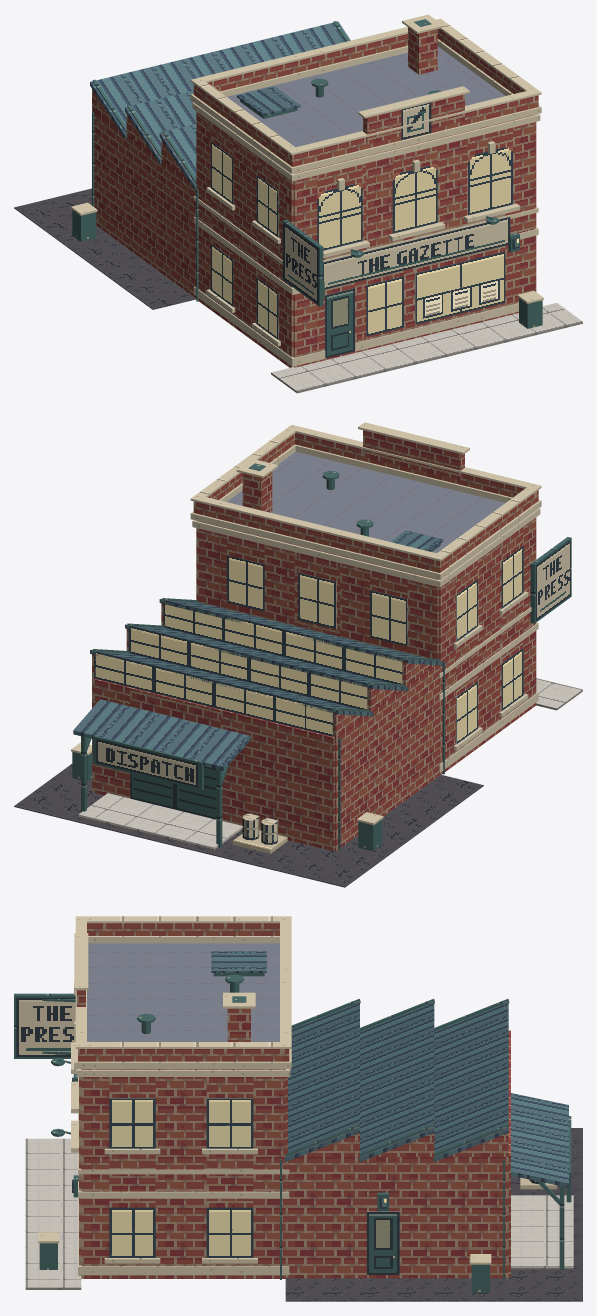
The model's file is gazette-office.glb.
3 views of the same model, one above another, from view 1: azimuth 30°, elevation 25°; view 2: azimuth 150°, elevation 25°; view 3: azimuth 270°, elevation 25° (orthographic). The views are drawn at different scales.
Visible parts, largest first — view 1: structure__wall_brick, structure__detail_stone, structure__glass_gazette, structure__roof_metal, structure__roof_membrane, lot__ground_paving, lot__ground_asphalt, sign_name, structure__detail_steel, projecting_sign__sign_name, panel_door_main__detail_panels, structure__sign_name (+3 smaller); view 2: structure__wall_brick, structure__glass_gazette, structure__detail_stone, structure__roof_metal, structure__roof_membrane, lot__ground_asphalt, structure__ground_paving, structure__detail_steel, panel_door_back__detail_panels, structure__sign_name, projecting_sign__sign_name, lot__ground_paving (+3 smaller); view 3: structure__wall_brick, structure__roof_metal, structure__detail_stone, structure__roof_membrane, structure__glass_gazette, lot__ground_asphalt, lot__ground_paving, structure__detail_steel, structure__ground_paving, projecting_sign__sign_name, panel_door_side__detail_panels, projecting_sign__detail_steel (+2 smaller).
Part boxes in pixels (left/top/right/bottom): structure__wall_brick: left=92, top=24, right=538, bottom=367; structure__detail_stone: left=190, top=14, right=541, bottom=366; structure__glass_gazette: left=211, top=141, right=512, bottom=339; structure__roof_metal: left=90, top=21, right=350, bottom=189; structure__roof_membrane: left=227, top=46, right=504, bottom=147; lot__ground_paving: left=271, top=302, right=582, bottom=393; lot__ground_asphalt: left=14, top=188, right=195, bottom=309; sign_name: left=323, top=217, right=510, bottom=289; structure__detail_steel: left=92, top=19, right=519, bottom=301; projecting_sign__sign_name: left=283, top=223, right=318, bottom=303; panel_door_main__detail_panels: left=325, top=288, right=354, bottom=358; structure__sign_name: left=401, top=102, right=431, bottom=139; structure__wall_brick: left=92, top=430, right=538, bottom=851; structure__glass_gazette: left=94, top=546, right=523, bottom=744; structure__detail_stone: left=190, top=422, right=541, bottom=772; structure__roof_metal: left=73, top=530, right=443, bottom=770; structure__roof_membrane: left=227, top=451, right=504, bottom=553; lot__ground_asphalt: left=14, top=764, right=483, bottom=887; structure__ground_paving: left=78, top=687, right=469, bottom=850; structure__detail_steel: left=81, top=463, right=444, bottom=849; panel_door_back__detail_panels: left=130, top=766, right=216, bottom=819; structure__sign_name: left=96, top=739, right=197, bottom=787; projecting_sign__sign_name: left=536, top=541, right=570, bottom=620; lot__ground_paving: left=536, top=678, right=582, bottom=710; structure__wall_brick: left=76, top=923, right=510, bottom=1278; structure__roof_metal: left=211, top=951, right=568, bottom=1187; structure__detail_stone: left=71, top=916, right=291, bottom=1275; structure__roof_membrane: left=87, top=943, right=279, bottom=1041; structure__glass_gazette: left=109, top=1098, right=253, bottom=1257; lot__ground_asphalt: left=285, top=1128, right=582, bottom=1301; lot__ground_paving: left=25, top=1138, right=81, bottom=1289; structure__detail_steel: left=51, top=973, right=571, bottom=1279; structure__ground_paving: left=367, top=1195, right=573, bottom=1269; projecting_sign__sign_name: left=16, top=998, right=75, bottom=1056; panel_door_side__detail_panels: left=367, top=1212, right=399, bottom=1274; projecting_sign__detail_steel: left=14, top=993, right=75, bottom=1058.
Size of what is drawn, in the model's own units: 13.66 by 9.56 by 19.01.
Materials: 12 (12 with a texture image).
